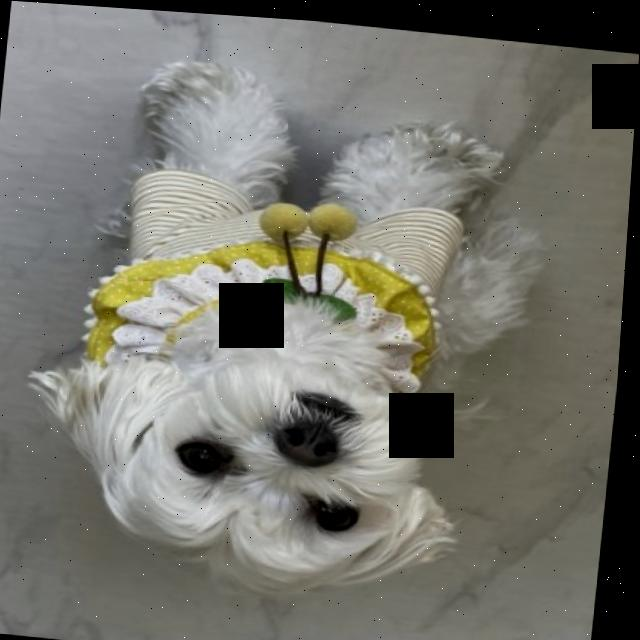cloth: (94, 167, 466, 386)
